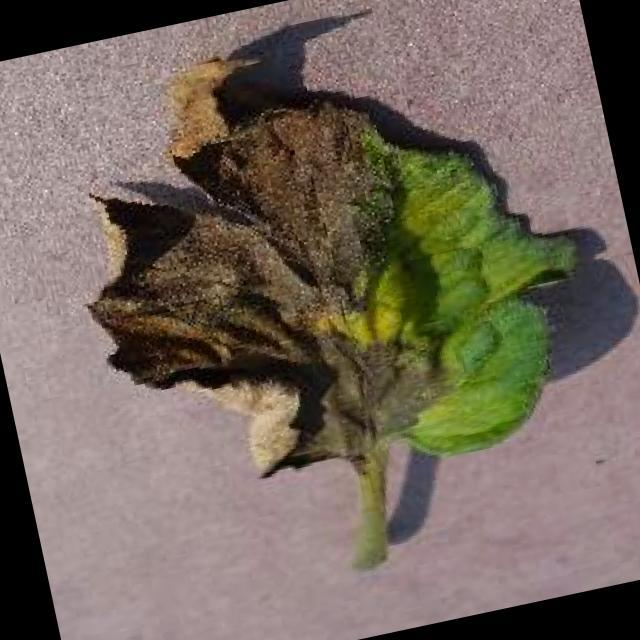Tomato late blight leaf: (39, 0, 621, 533)
